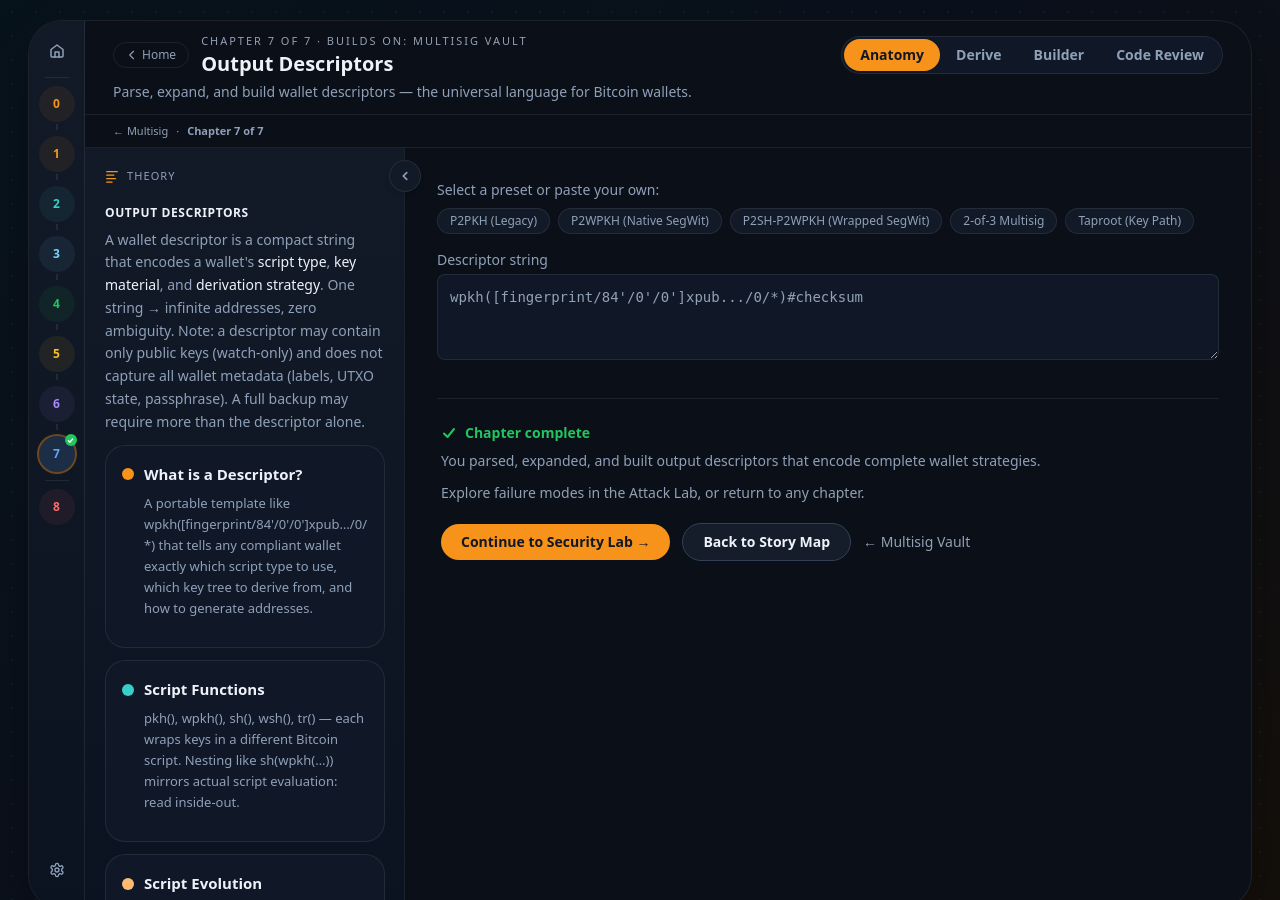
Test: OutputDescriptors › AC8: Builder tab renders script type selector and generate button
This screenshot has width=1280, height=900.
Click the tab "Builder" at (1059, 55), box [1018, 39, 1100, 71]
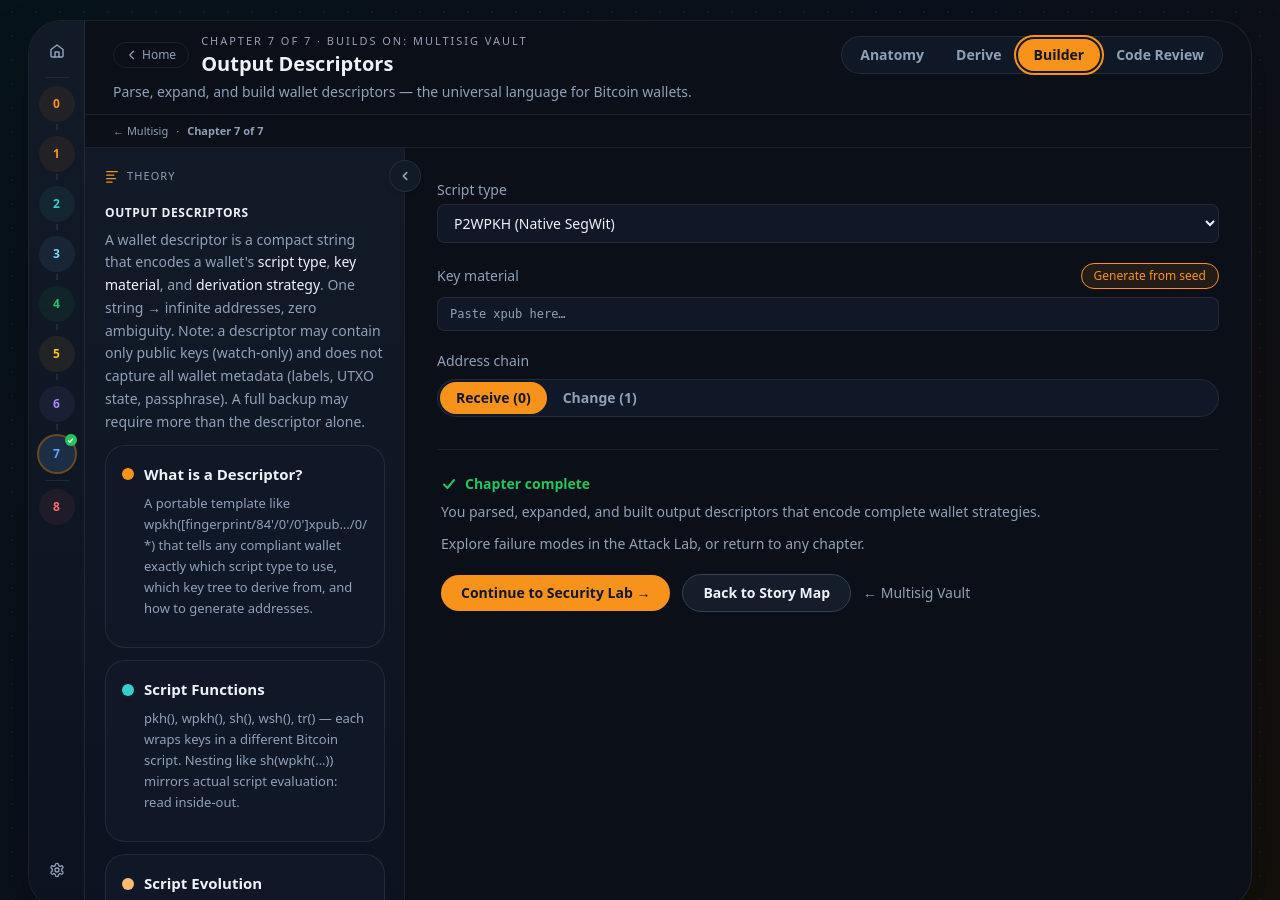
Check: the dropdown labelled "Script type" is shown, box [437, 204, 1219, 243]
Check: the button "Generate from seed" is shown, box [1080, 263, 1219, 289]
